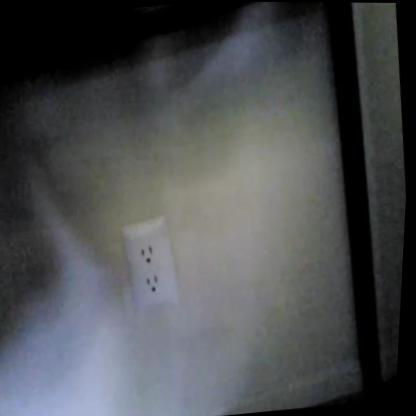OUTLET: (113, 213, 185, 315)
